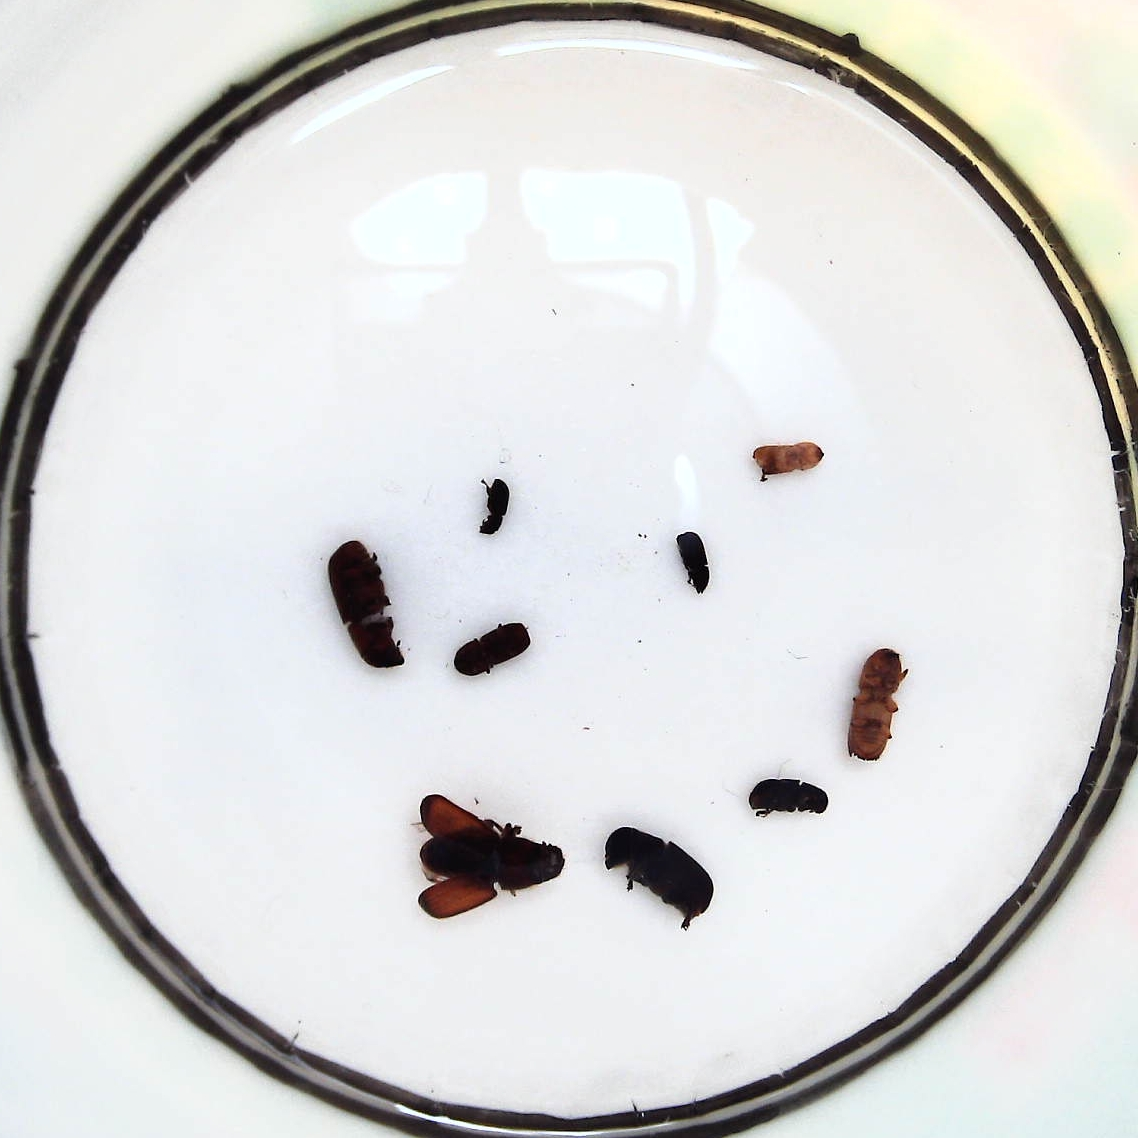Boerner: (848, 647, 908, 763)
Leconte: (417, 794, 566, 919), (605, 826, 713, 920), (329, 540, 405, 669)
acuminatus: (676, 531, 711, 594), (479, 479, 509, 534)
armandi: (748, 780, 828, 816)
coleoptera: (751, 441, 824, 478)
linnaeus: (454, 623, 530, 675)
